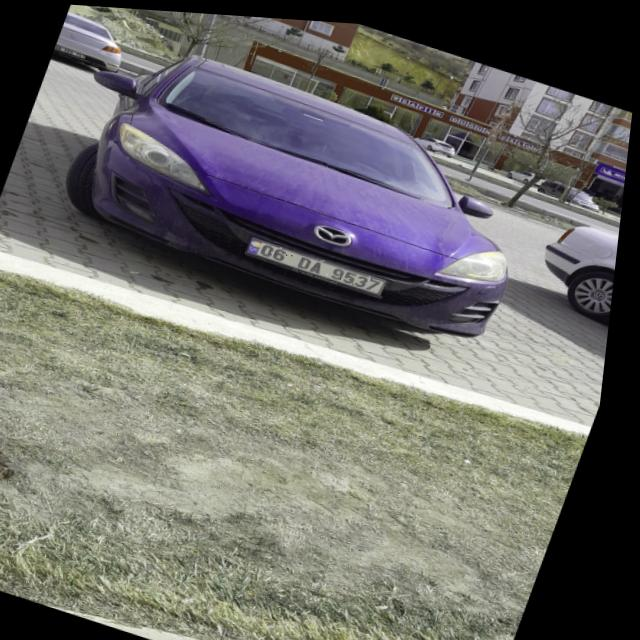plate: (249, 233, 397, 290)
